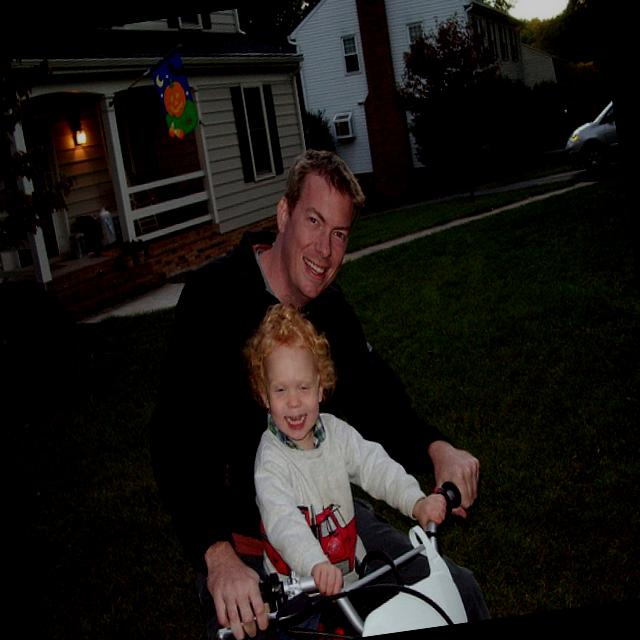Vehicle: (196, 472, 483, 640), (557, 91, 622, 177)
